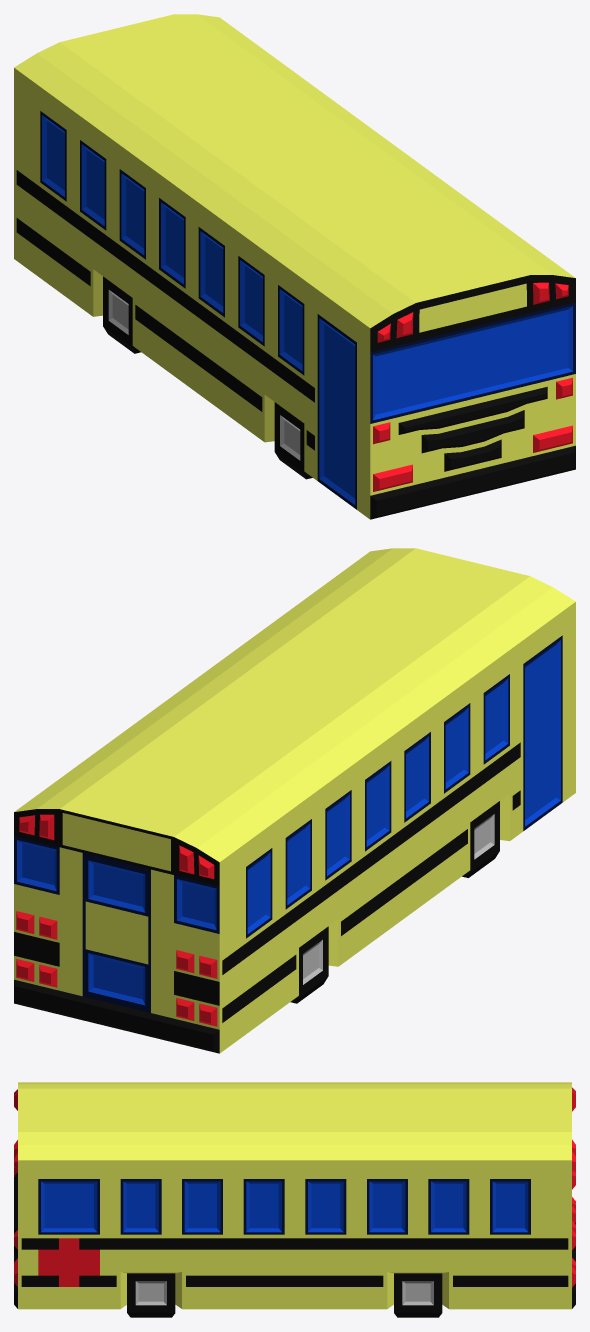
The model's file is Bus.FBX.
3 views of the same model, one above another, from view 1: azimuth 30°, elevation 25°; view 2: azimuth 150°, elevation 25°; view 3: azimuth 270°, elevation 25° (orthographic). The views are drawn at different scales.
Parts seen in each view (by area): view 1: Bus; view 2: Bus; view 3: Bus.
Part boxes in pixels (left/top/right/bottom): Bus: left=14, top=14, right=575, bottom=519; Bus: left=14, top=548, right=575, bottom=1053; Bus: left=14, top=1082, right=575, bottom=1317.
Size of the model in its own units: 88.58 by 90.72 by 269.
